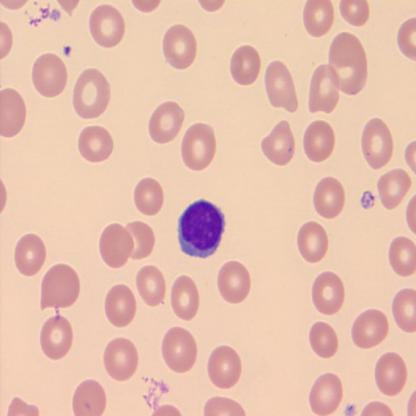Lymphocyte: (177, 198, 226, 260)
